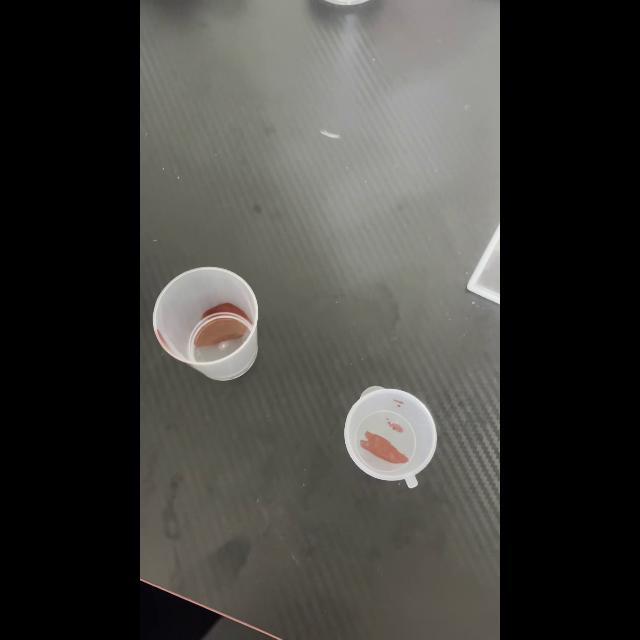dirty: (153, 266, 260, 389), (342, 387, 438, 487)
